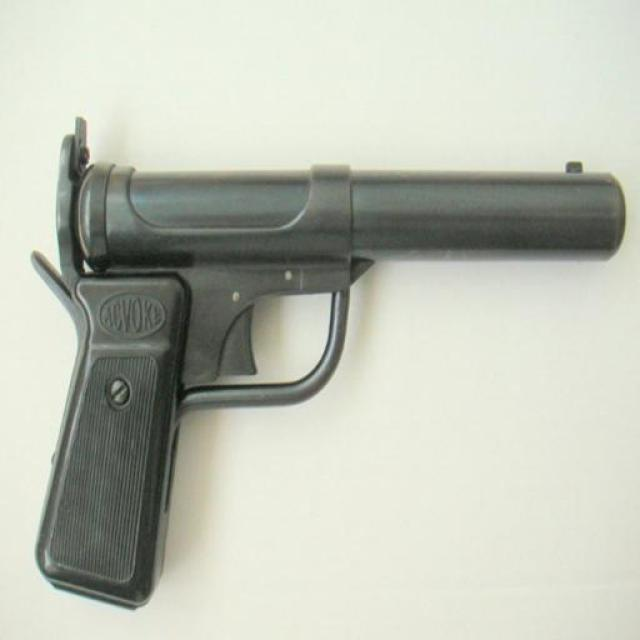pistol: (30, 113, 627, 601)
